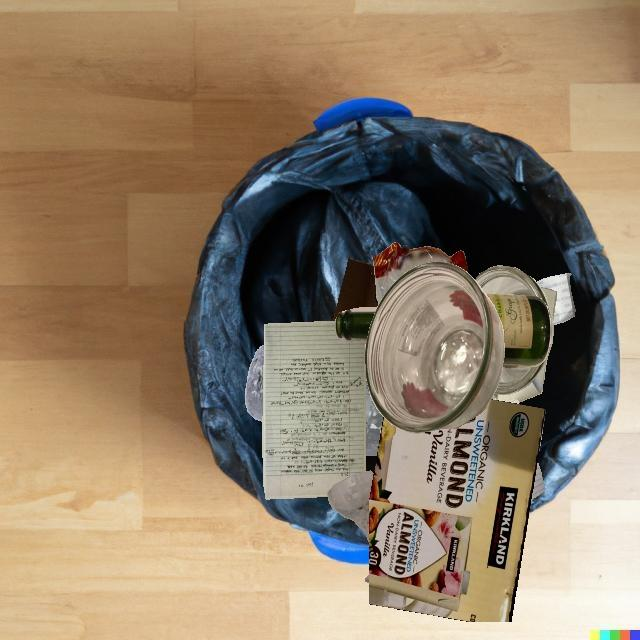cardboard: (369, 399, 546, 622), (333, 258, 376, 321)
glass: (365, 262, 505, 433), (475, 265, 554, 395), (485, 294, 550, 367), (327, 471, 374, 543), (335, 307, 378, 342)
paper: (262, 321, 366, 499), (491, 359, 547, 403), (536, 273, 575, 325), (531, 462, 545, 500), (540, 287, 556, 319)
plastic: (373, 242, 468, 305), (365, 372, 384, 456), (245, 345, 264, 421), (375, 291, 378, 304)
